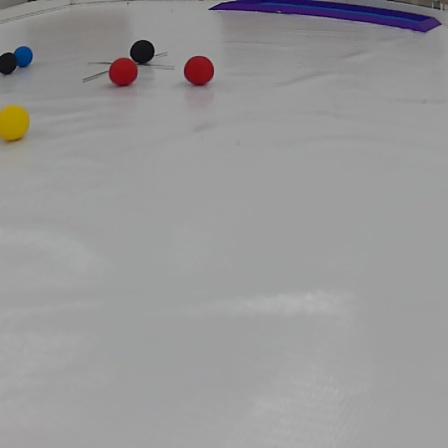black: (130, 39, 161, 64), (0, 53, 22, 78)
blue: (12, 44, 33, 69)
blue_aim: (207, 0, 437, 35)
red: (180, 55, 217, 87), (104, 55, 140, 86)
yellow: (0, 104, 31, 142)
